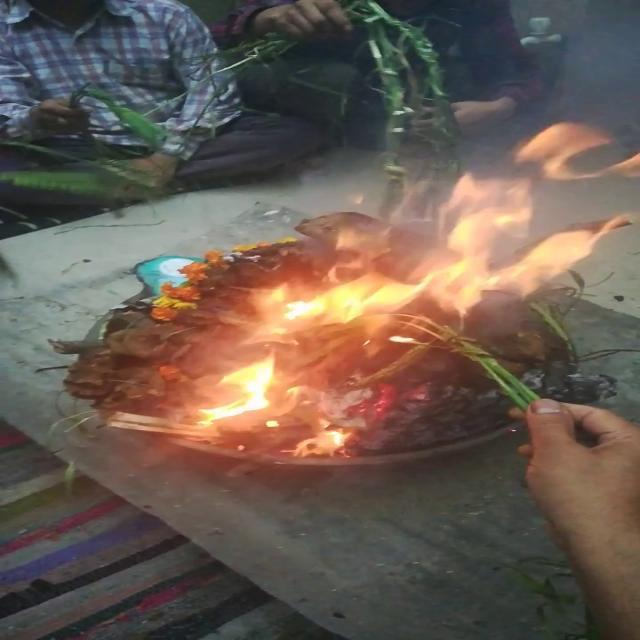Fire: (236, 194, 604, 345), (153, 350, 354, 462), (439, 123, 640, 193)
Smoke: (489, 1, 639, 119)
